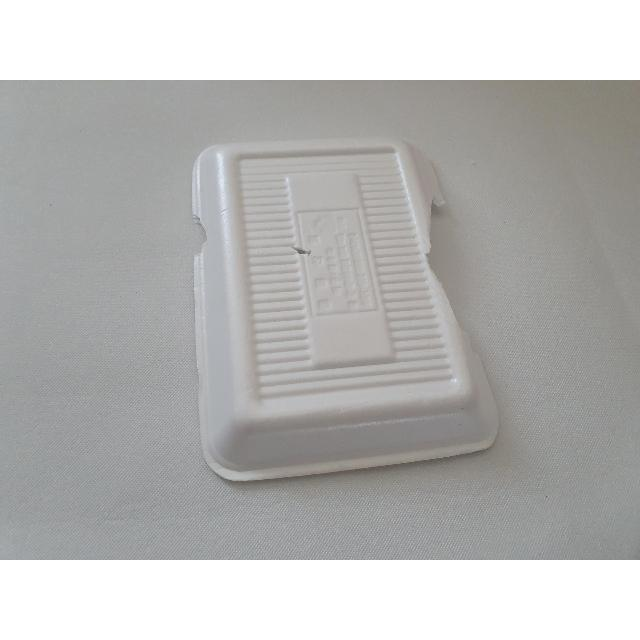Recipiente plastico: (194, 139, 498, 480)
